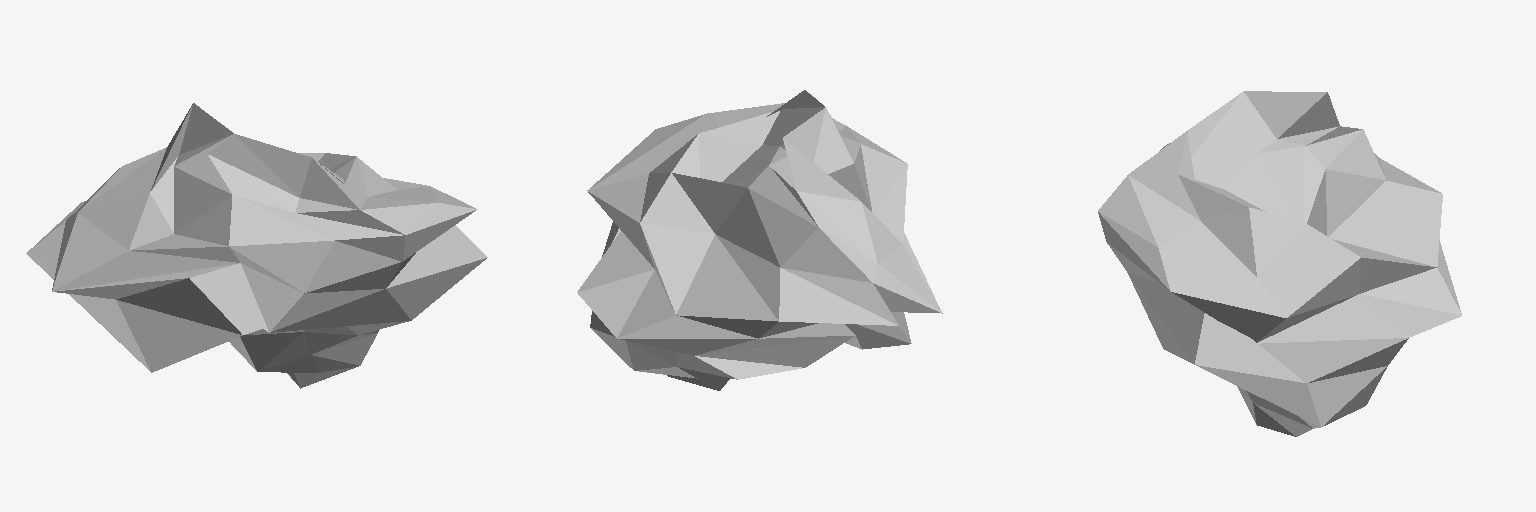
Rendered from asteroid2.obj.
3 views of the same model, side by side, from view 1: azimuth 30°, elevation 25°; view 2: azimuth 150°, elevation 25°; view 3: azimuth 270°, elevation 25° (orthographic).
Parts seen in each view (by area): view 1: 000_Sphere; view 2: 000_Sphere; view 3: 000_Sphere.
Part boxes in pixels (x1,y1,x2,y2): 000_Sphere: (26,103,487,388); 000_Sphere: (577,90,942,390); 000_Sphere: (1098,91,1461,436).
Size of the model in its own units: 222 by 162 by 185.